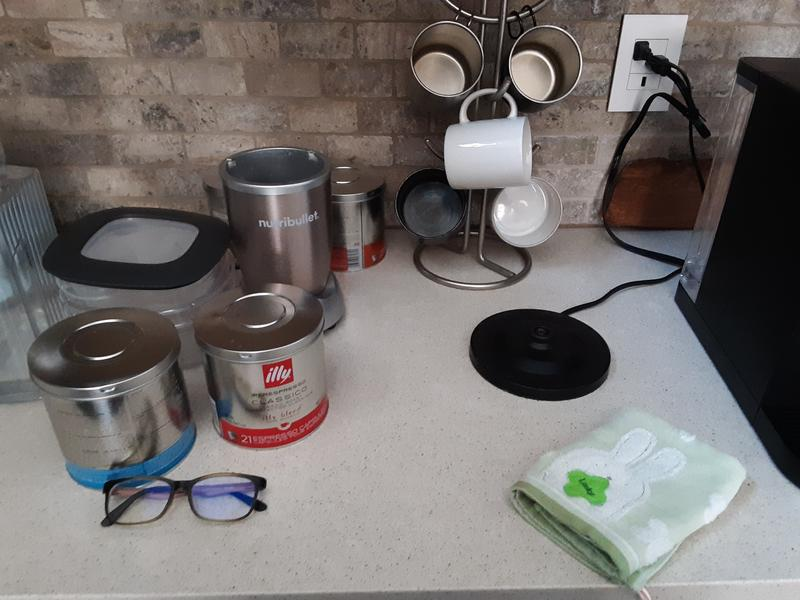glasses: (100, 470, 269, 528)
